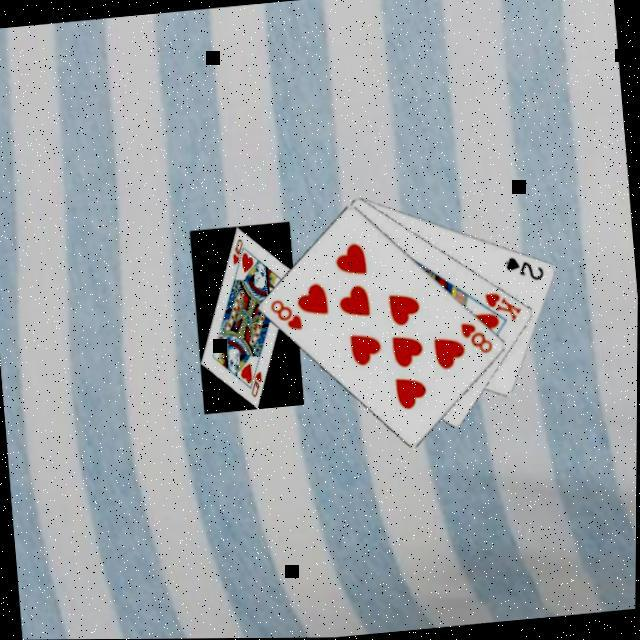2S: (500, 252, 547, 288)
8H: (457, 318, 496, 359), (266, 296, 305, 336)
KH: (480, 288, 524, 328)
